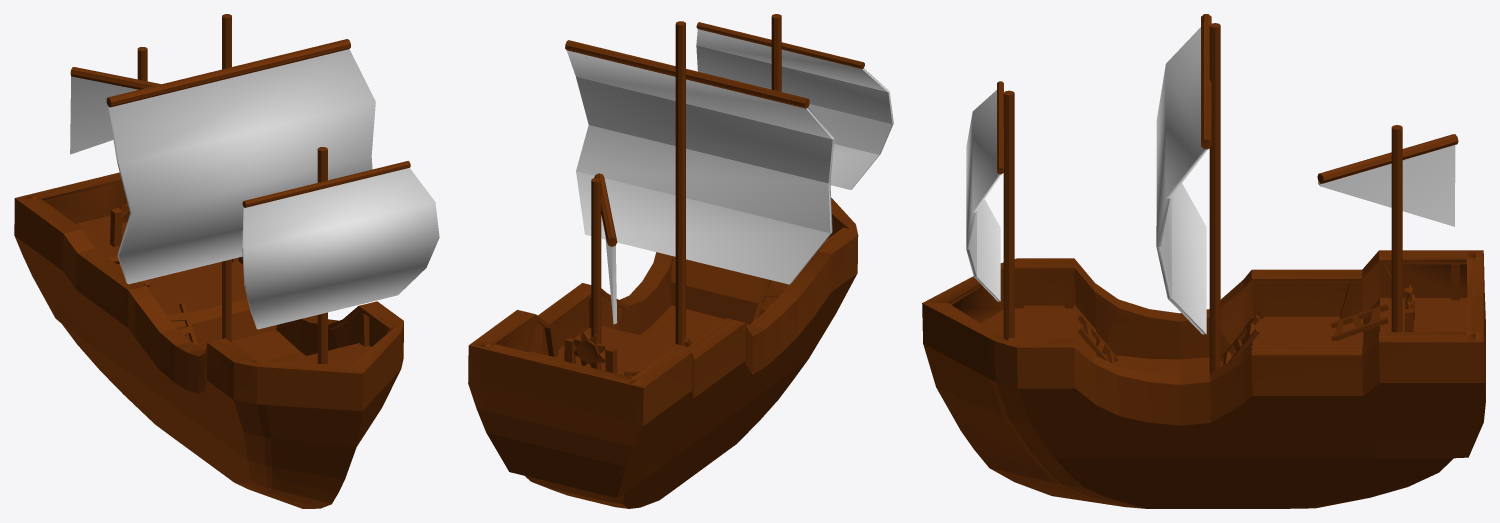
The model's file is ships_2.fbx.
3 views of the same model, side by side, from view 1: azimuth 30°, elevation 25°; view 2: azimuth 150°, elevation 25°; view 3: azimuth 270°, elevation 25° (orthographic). The views are drawn at different scales.
Parts seen in each view (by area): view 1: ships_1; view 2: ships_1; view 3: ships_1.
Part boxes in pixels (bbox=[...]): ships_1: bbox=[14, 14, 439, 508]; ships_1: bbox=[468, 14, 893, 508]; ships_1: bbox=[922, 14, 1485, 508].
Bounding box in the file's own units: 5.73 × 9.36 × 10.12.
